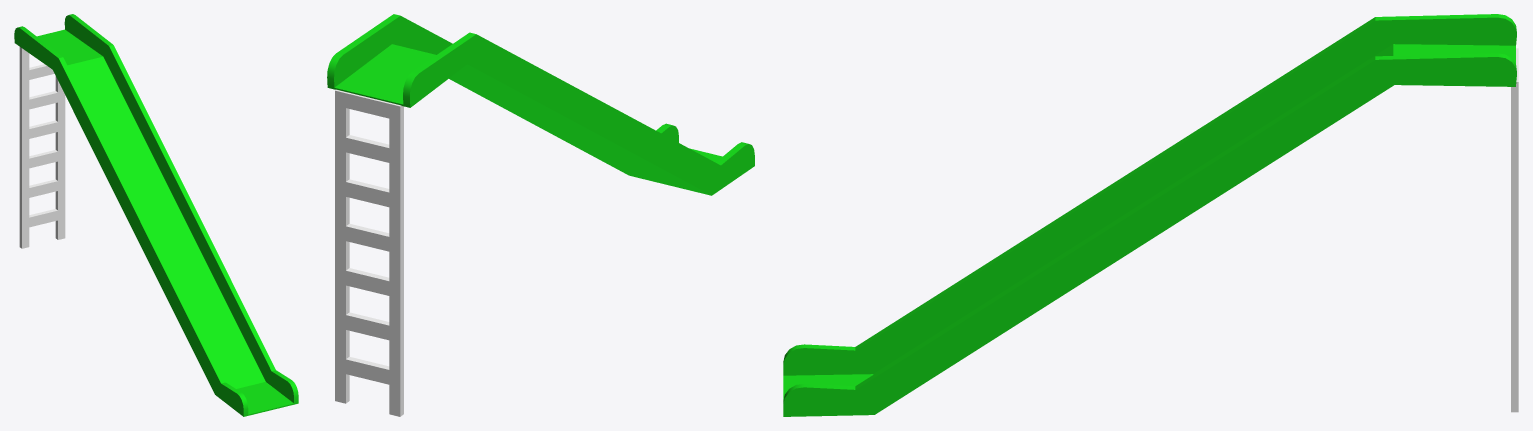
The model's file is PerosotanWee.fbx.
The picture shows the model from 3 angles, left to right: view 1: azimuth 30°, elevation 25°; view 2: azimuth 150°, elevation 25°; view 3: azimuth 270°, elevation 25°; orthographic projection. The views are drawn at different scales.
Parts seen in each view (by area): view 1: PerosotanSlide, PerosotanLadder; view 2: PerosotanSlide, PerosotanLadder; view 3: PerosotanSlide, PerosotanLadder.
Part boxes in pixels (bbox=[...]): PerosotanSlide: bbox=[14, 14, 298, 416]; PerosotanLadder: bbox=[19, 47, 65, 248]; PerosotanSlide: bbox=[327, 14, 754, 195]; PerosotanLadder: bbox=[335, 89, 403, 416]; PerosotanSlide: bbox=[783, 14, 1516, 416]; PerosotanLadder: bbox=[1511, 48, 1518, 412].
Bounding box in the file's own units: 960 × 3755 × 6954.
